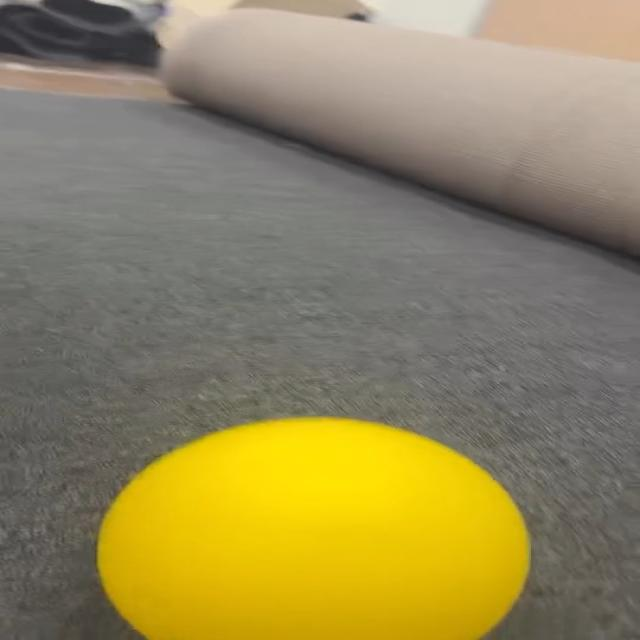Fuels: (99, 418, 526, 636)
